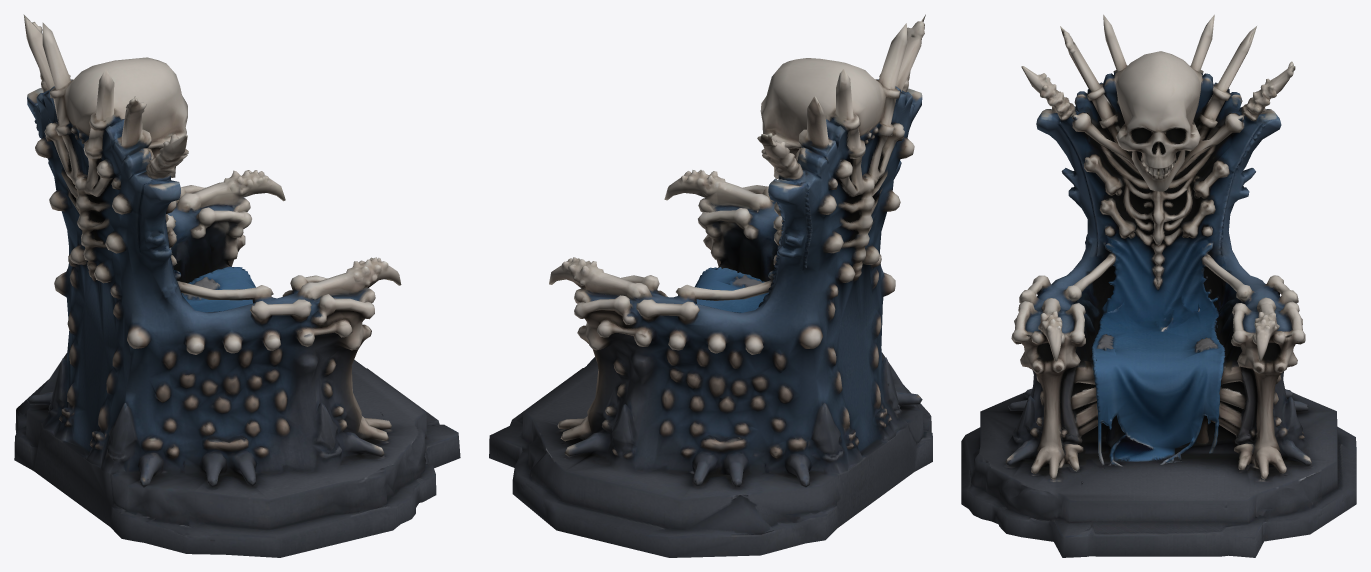
File: trono.glb
3 renders of one model, left to right at view 1: azimuth 30°, elevation 25°; view 2: azimuth 150°, elevation 25°; view 3: azimuth 270°, elevation 25°, orthographic. The views are drawn at different scales.
Parts seen in each view (by area): view 1: world; view 2: world; view 3: world.
Part boxes in pixels (<box>): world: <box>14,14,460,557</box>; world: <box>489,14,932,557</box>; world: <box>961,14,1356,557</box>.
Size of the model in its own units: 0.7754 by 0.998 by 0.8926.
1 material, 1 textured.
